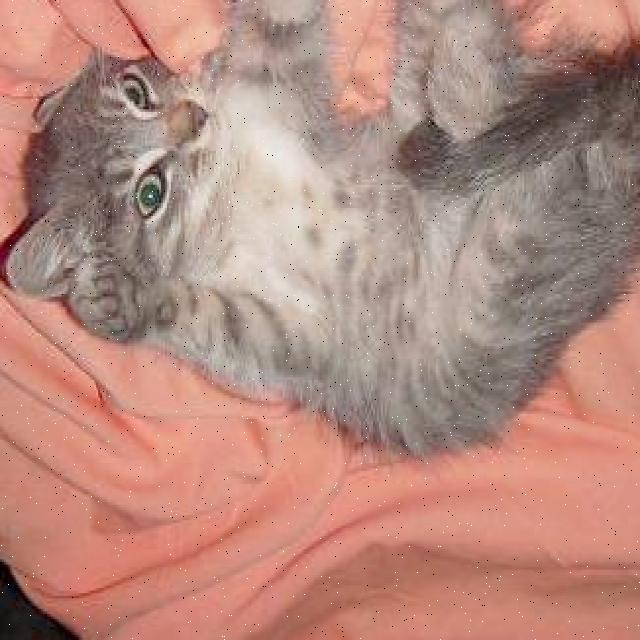Cat: (0, 45, 241, 336)
